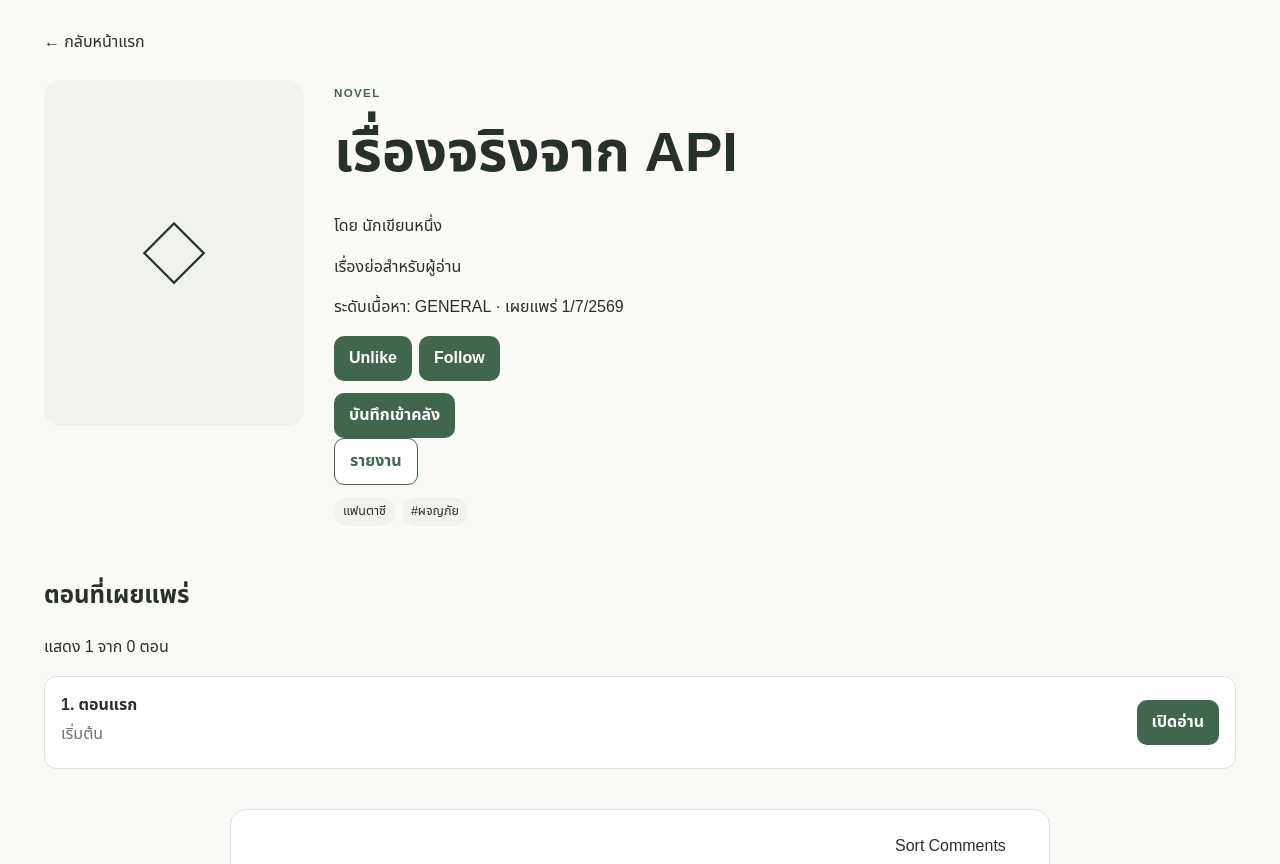
Test case: public Story Detail › clears private state on 401 while preserving public Story content
This screenshot has width=1280, height=864.
Click the button "Unlike": (373, 359) [334,336,412,381]
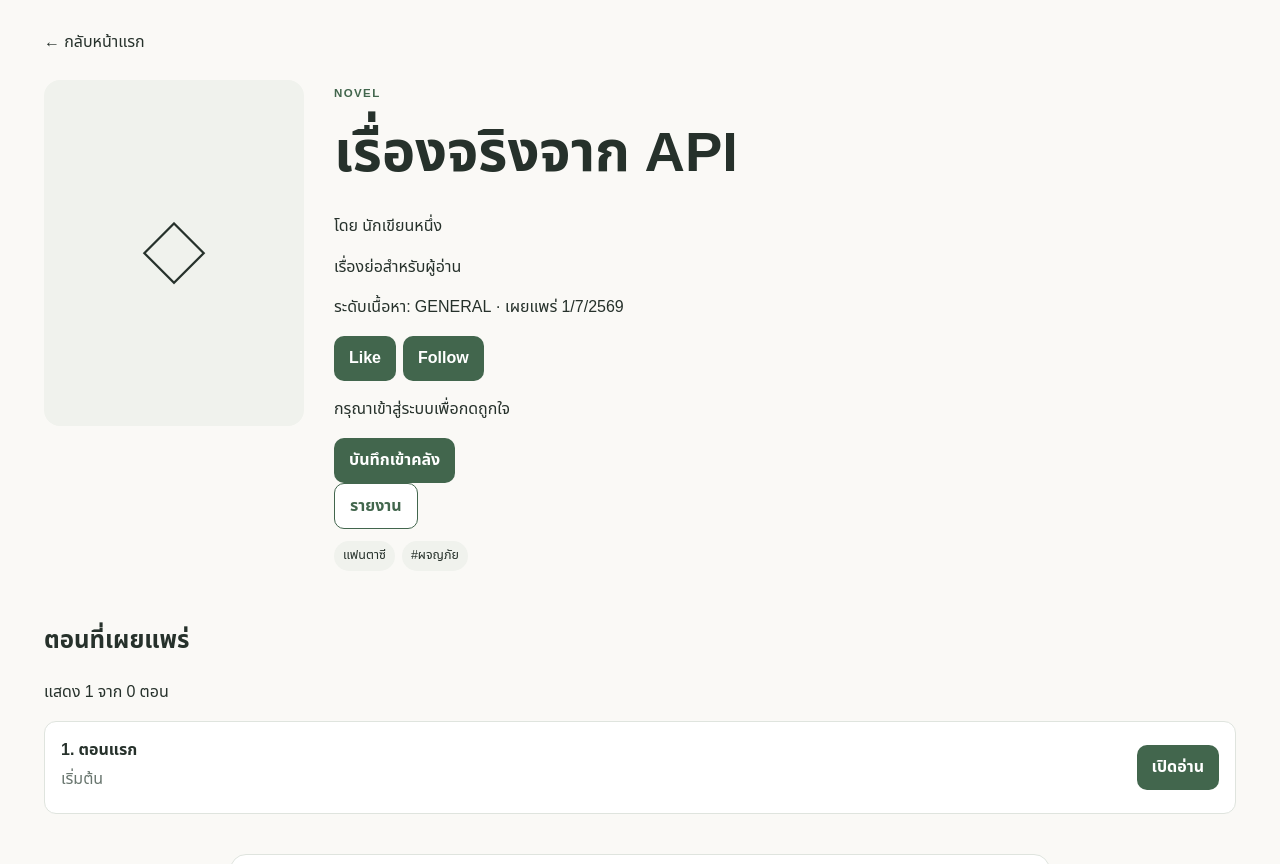
Expected: the heading "เรื่องจริงจาก API" is shown, [334,112,738,196]
Expected: the text "กรุณาเข้าสู่ระบบเพื่อกดถูกใจ" is shown, [334,397,510,421]
